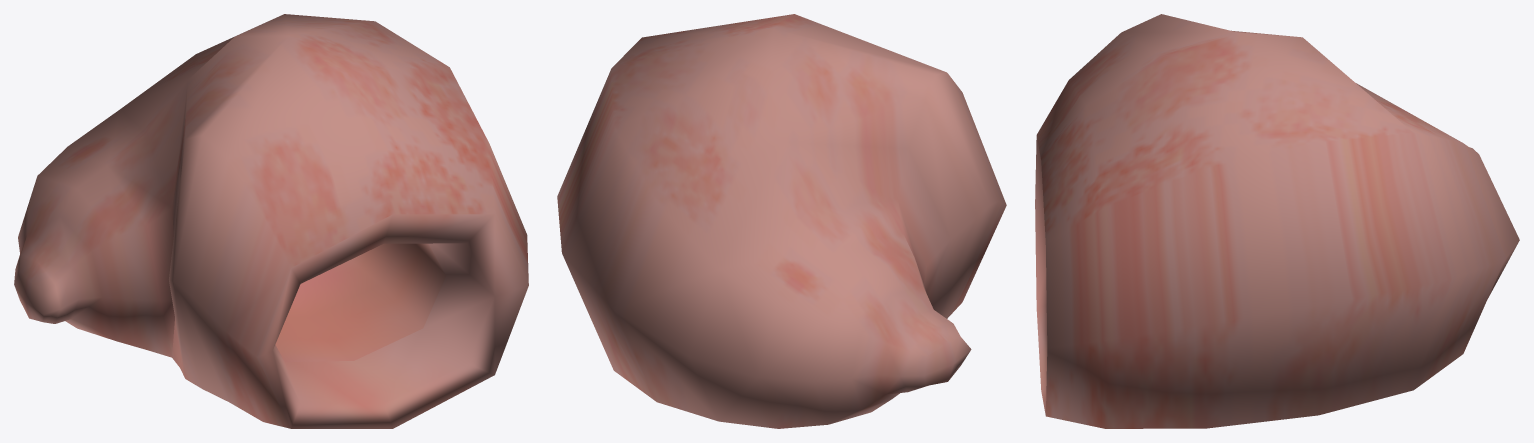
File: Nautilus_Shell.fbx
The picture shows the model from 3 angles, left to right: view 1: azimuth 30°, elevation 25°; view 2: azimuth 150°, elevation 25°; view 3: azimuth 270°, elevation 25°; orthographic projection. The views are drawn at different scales.
Parts seen in each view (by area): view 1: Shell; view 2: Shell; view 3: Shell.
Part boxes in pixels (x1=…): Shell: x1=14, y1=14, x2=528, y2=428; Shell: x1=557, y1=14, x2=1006, y2=428; Shell: x1=1035, y1=14, x2=1519, y2=428.
Size of the model in its own units: 0.5737 by 0.4545 by 0.5496.
